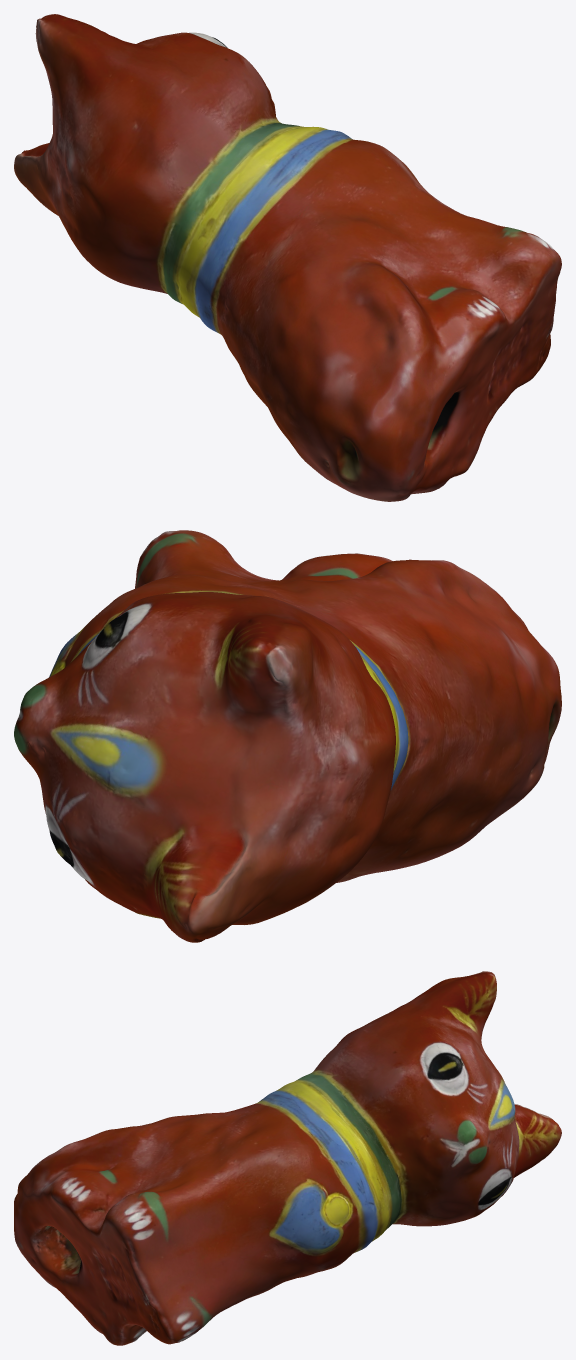
3 views of the same model, one above another, from view 1: azimuth 30°, elevation 25°; view 2: azimuth 150°, elevation 25°; view 3: azimuth 270°, elevation 25° (orthographic). The views are drawn at different scales.
Size of the model in its own units: 0.3976 by 0.3907 by 0.6605.
Materials: 1 (1 with a texture image).
